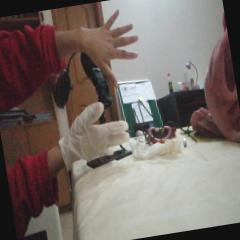gloved: (54, 99, 132, 164)
not-gloved: (67, 5, 146, 97)
